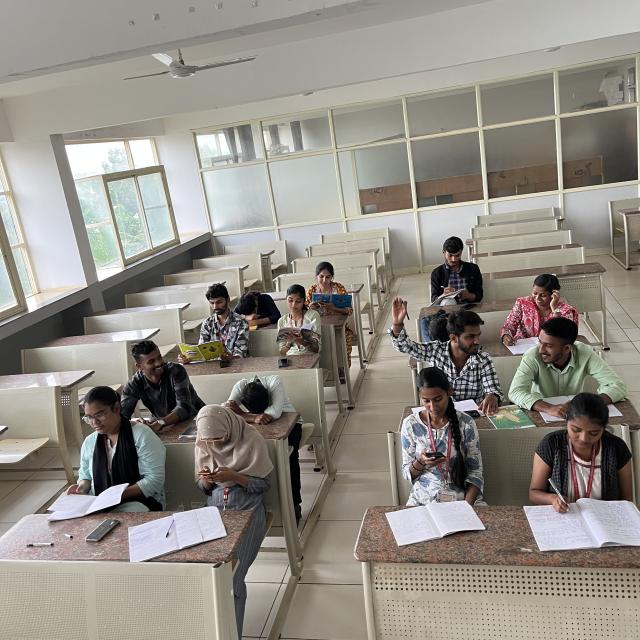Hand Rising: (377, 288, 498, 398)
Reading: (51, 385, 160, 518), (175, 282, 251, 358), (302, 261, 353, 316), (276, 284, 319, 348)
Sleeping: (223, 372, 290, 424), (232, 287, 278, 327)
Using Phone: (400, 373, 484, 490), (116, 339, 194, 430), (186, 399, 259, 488)
Writing: (526, 393, 635, 532), (497, 272, 581, 349), (425, 235, 482, 305)
